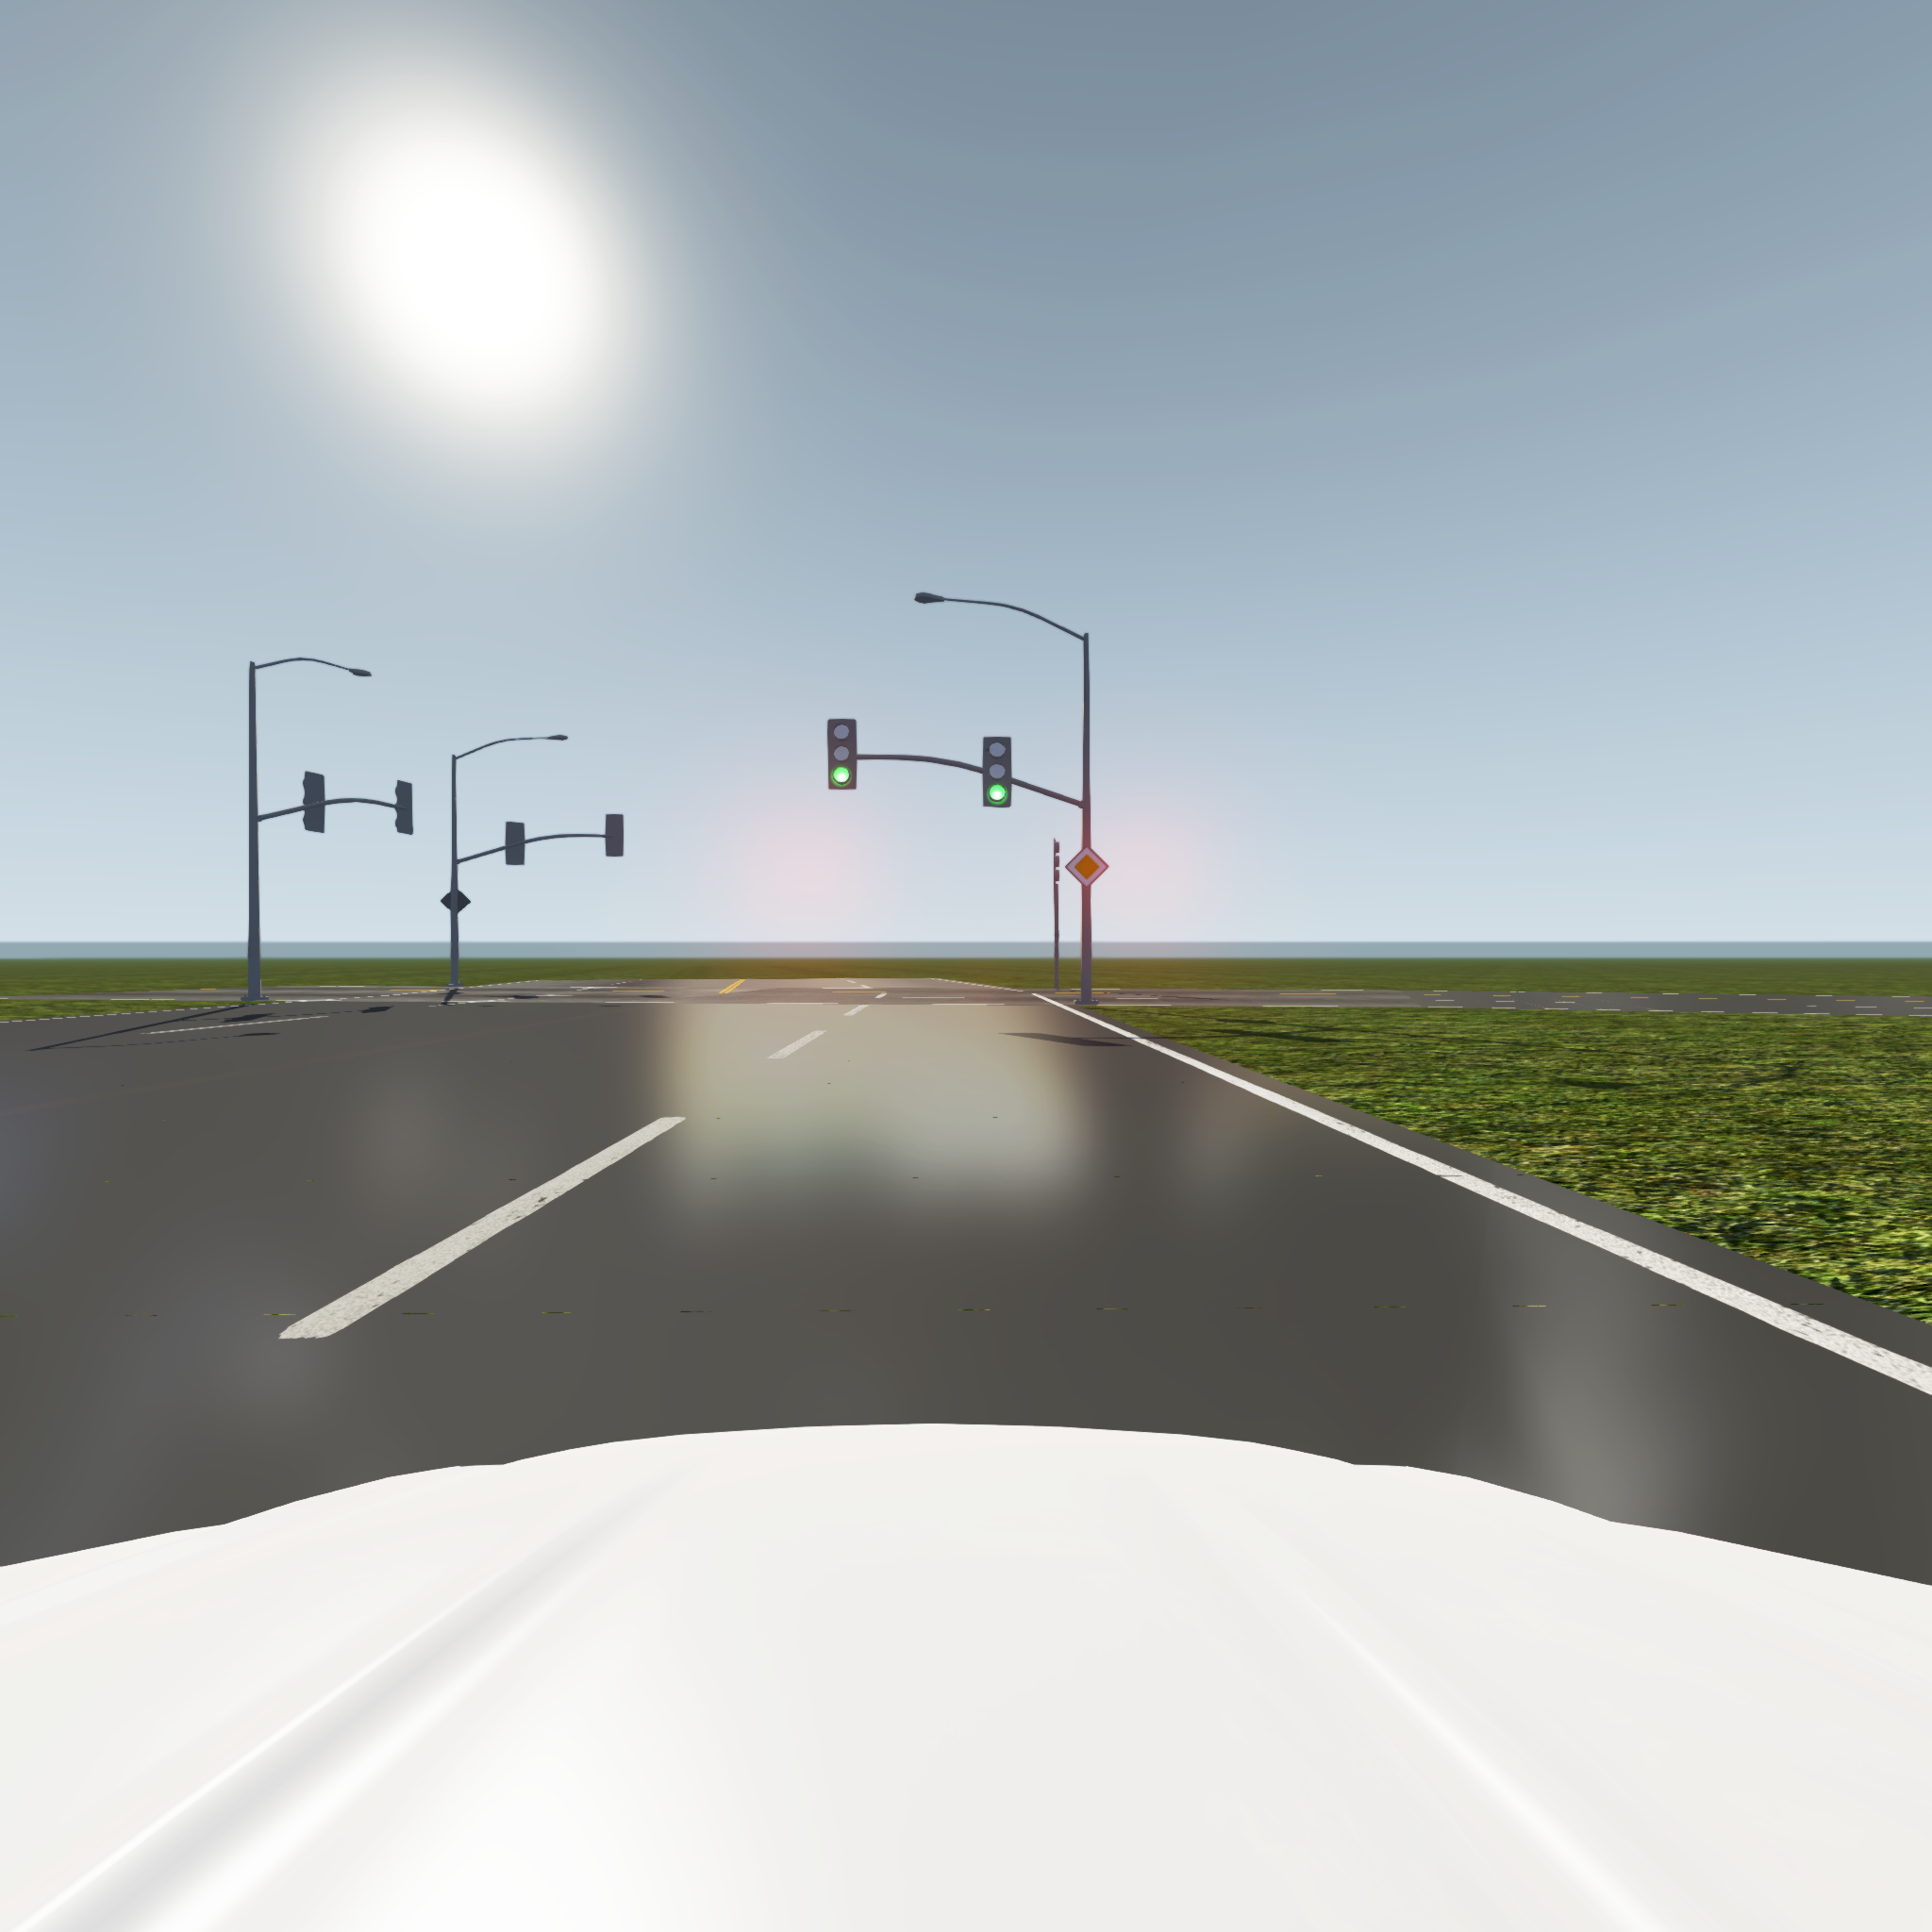green: (828, 720, 856, 789), (984, 738, 1010, 807)
